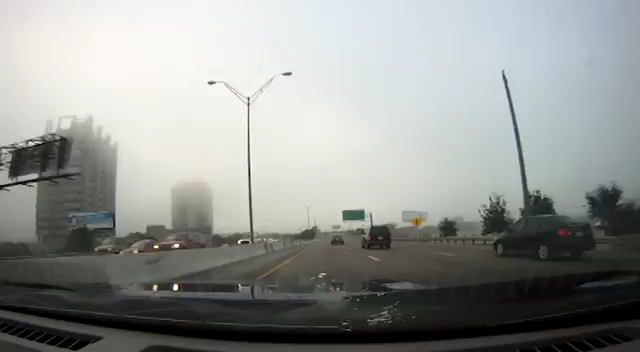car: (492, 214, 597, 258), (153, 231, 210, 257), (118, 239, 166, 262), (94, 237, 138, 259), (361, 225, 392, 249), (237, 236, 258, 249), (330, 235, 345, 245)
